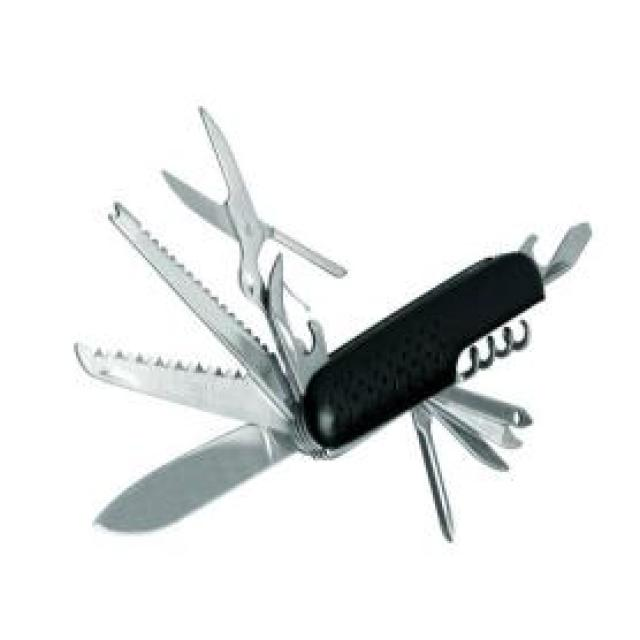knife: (92, 429, 311, 536), (60, 356, 316, 430), (403, 398, 466, 548), (421, 374, 542, 433), (430, 405, 516, 479), (442, 406, 520, 461)
